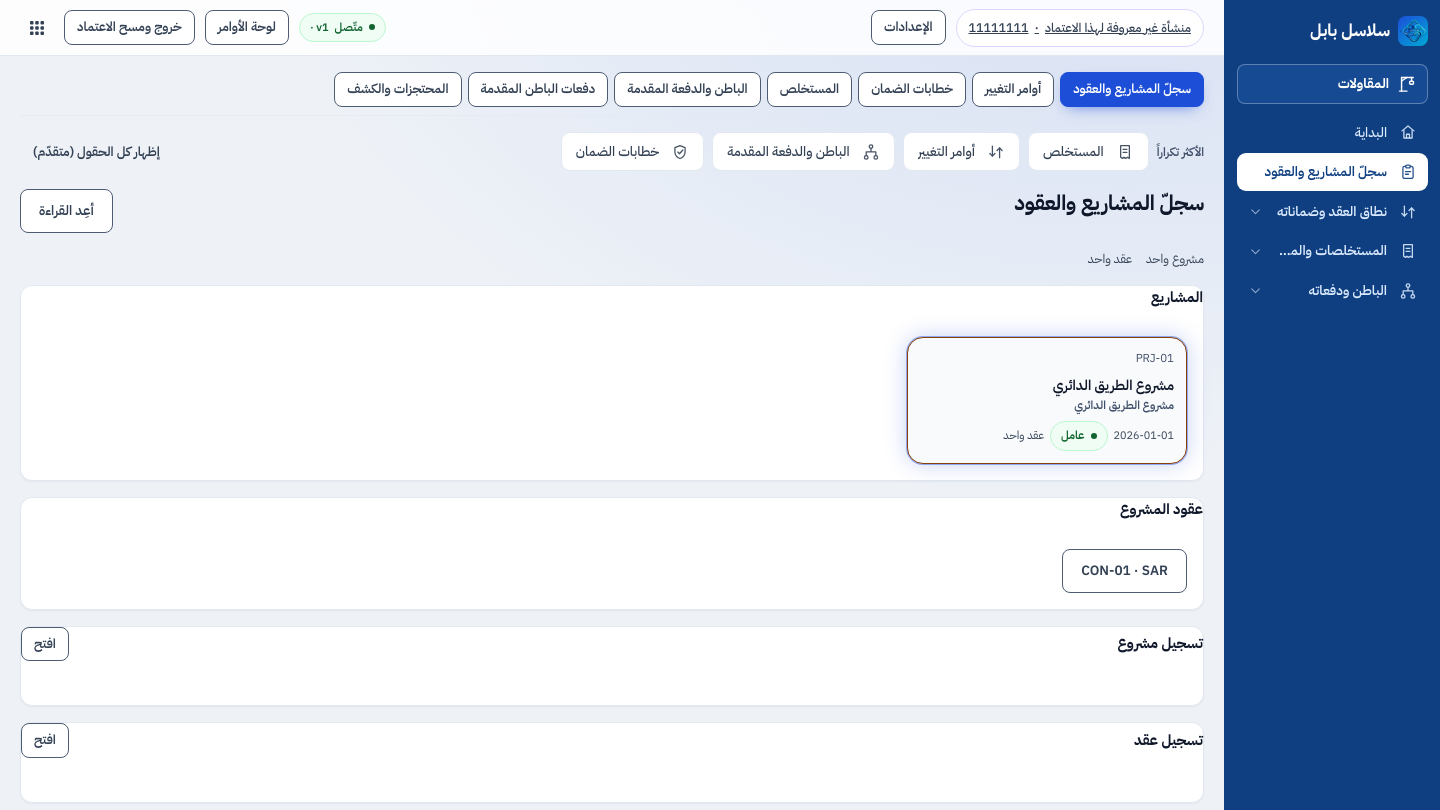
Test: سجلّ المشاريع › يعرض العقد ببنوده المعلَّقة قبل أن يُطلب منه مال
This screenshot has width=1440, height=810.
expect the button with test id "project-card" is shown: met, box [907,337,1187,464]
Click the button with test id "contract-chip": (1125,571) [1062,549,1187,593]
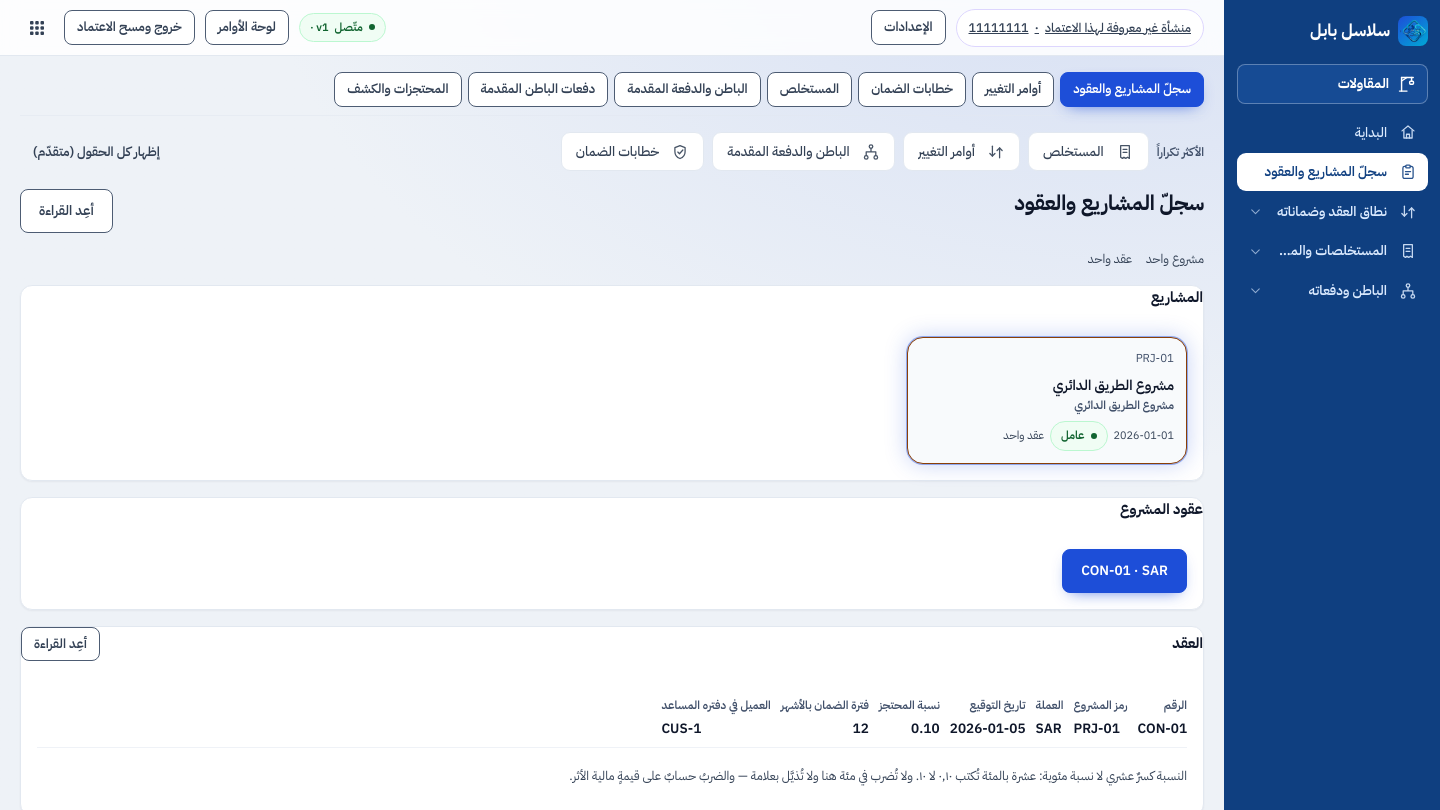
expect the element with test id "contract-retention-rate" reads "0.10": met, box [911,718,940,739]
